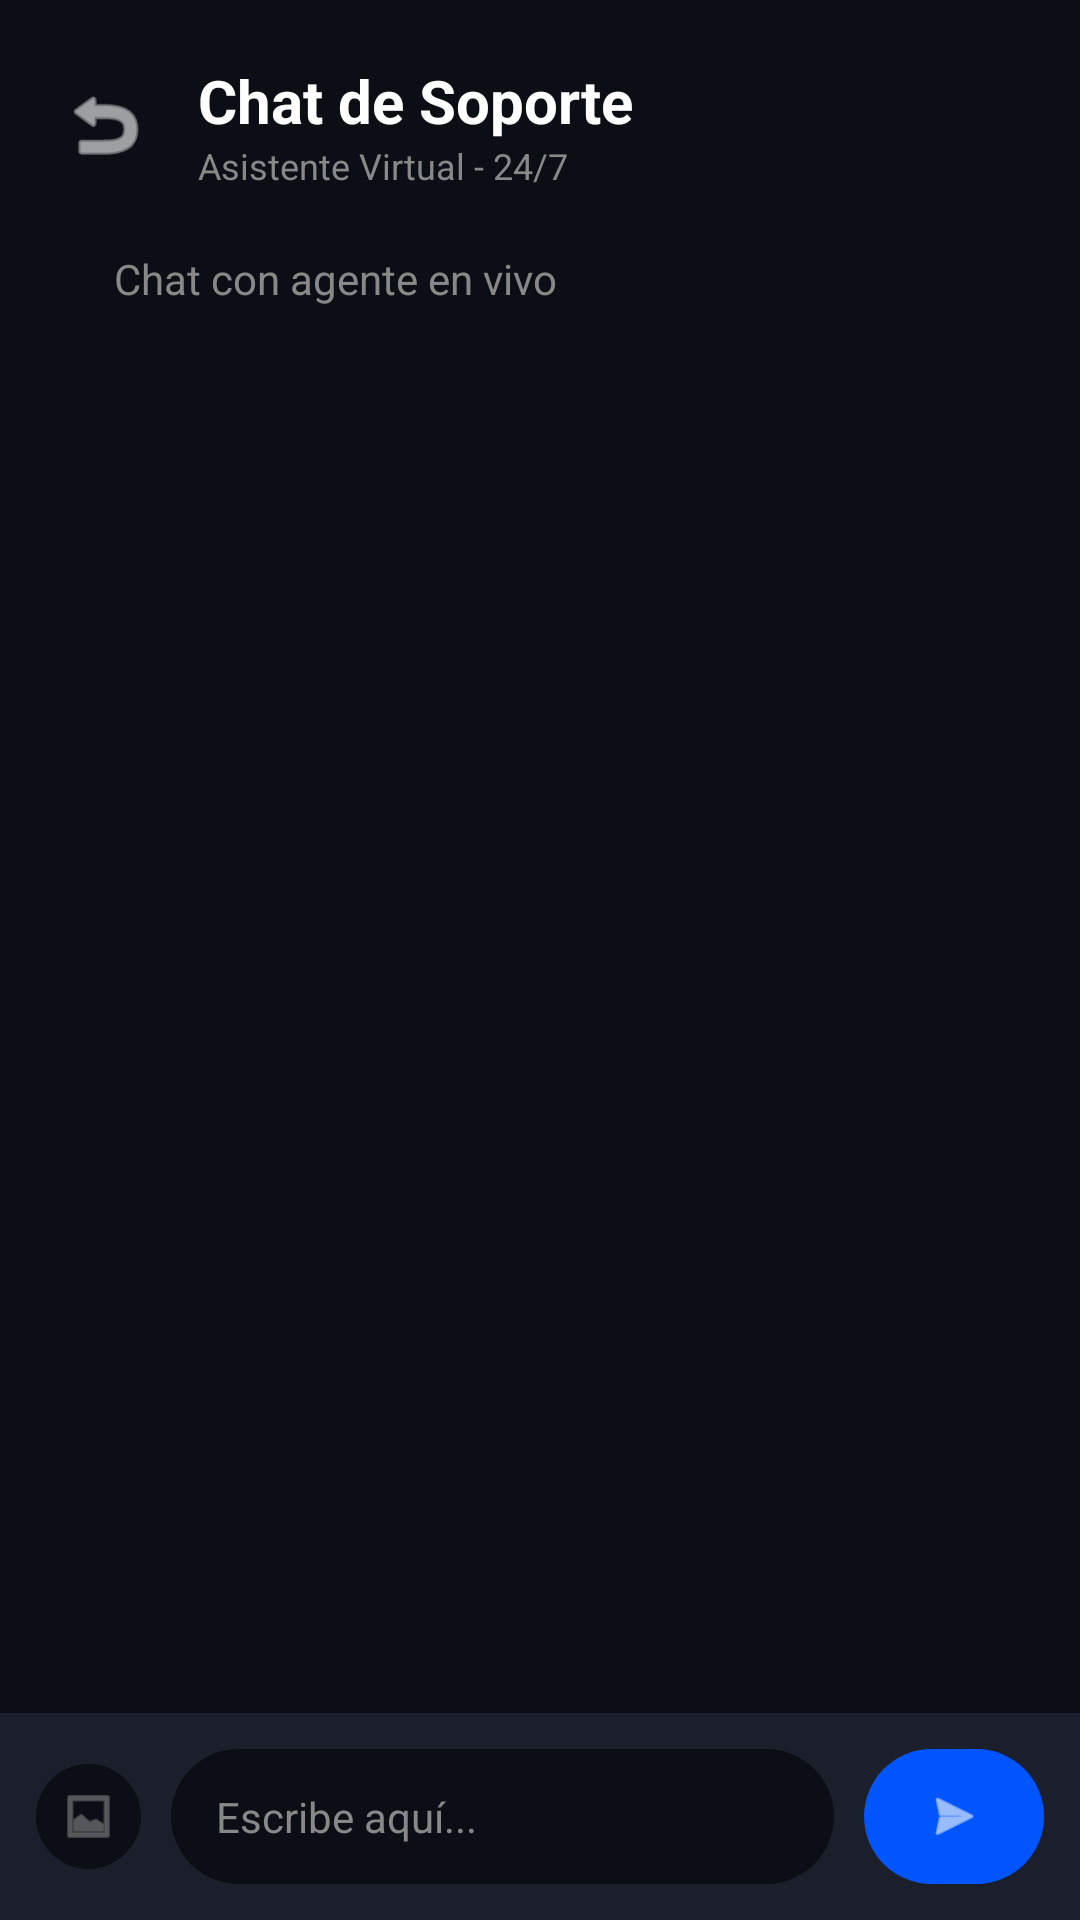

Screen size 1080px x 1920px. Icon name, then its box in pixels as bbox=(x1, y1, x2, y2):
gallery: bbox=(67, 1795, 110, 1838)
revert: bbox=(74, 96, 139, 155)
send: bbox=(935, 1797, 974, 1835)
